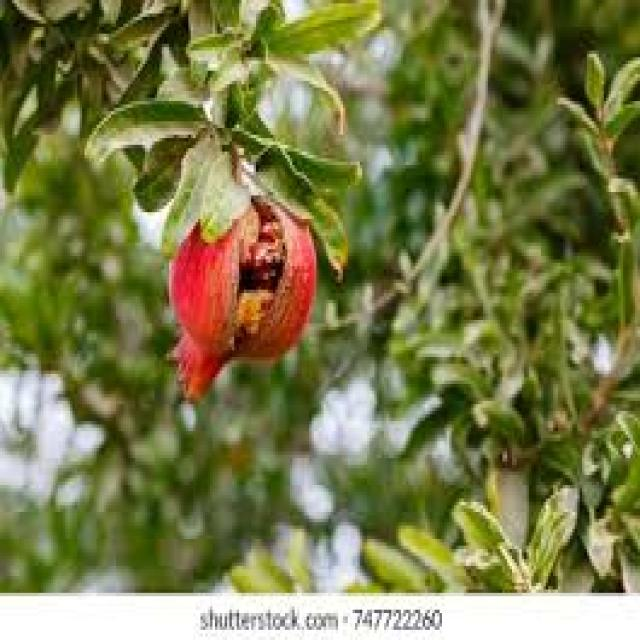overripe: (162, 187, 325, 406)
